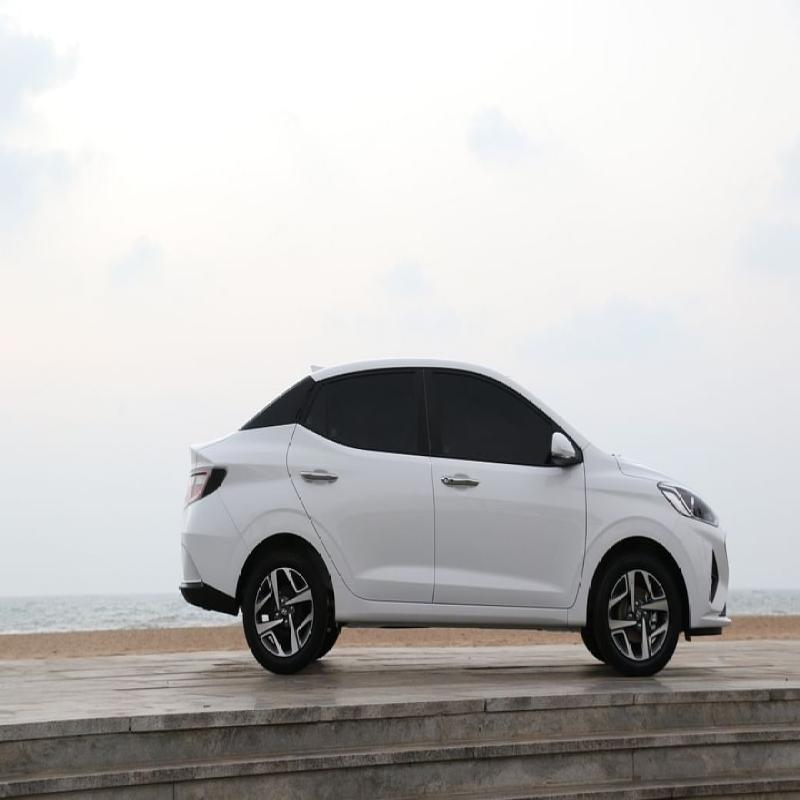car: (173, 326, 722, 672)
